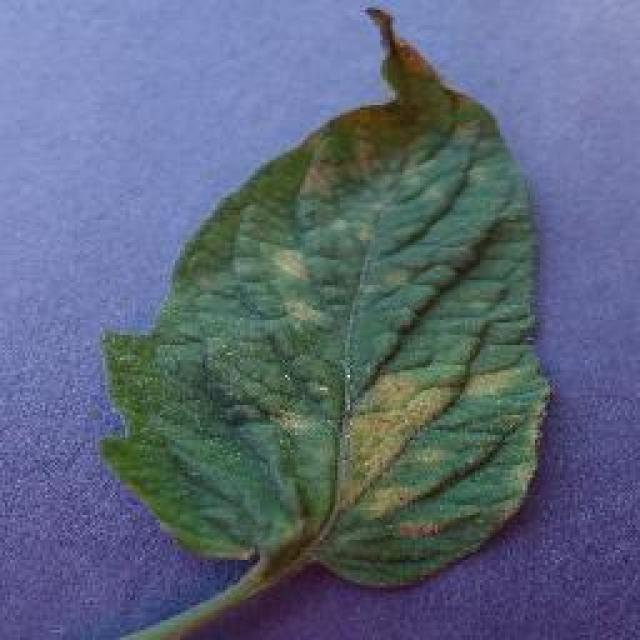Tomato mold leaf: (101, 8, 551, 582)
